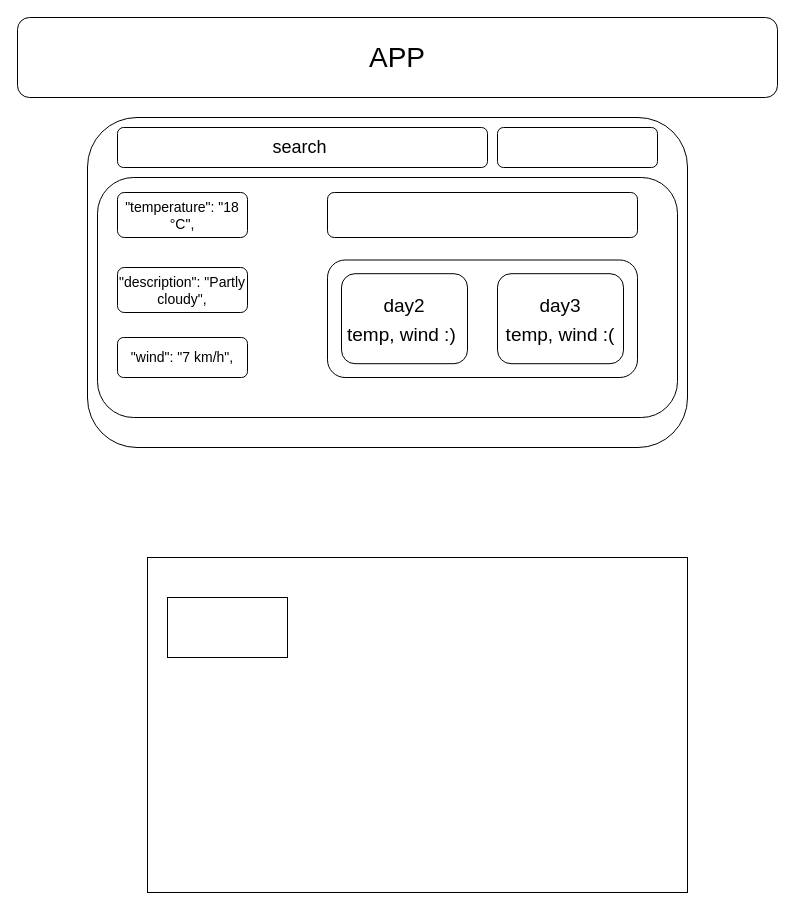
Some shapes in this 795 by 910 pixel diagram are drawn without their labels. The box of each missing label's shape, as (x1, y1, x2, y2) in pixels:
"temperature": "18 °C", "wind": "7 km/h", "description": "Partly cloudy",: (166, 596, 288, 658)
Name of city searched for: (326, 192, 638, 238)
submit: (496, 126, 658, 168)
